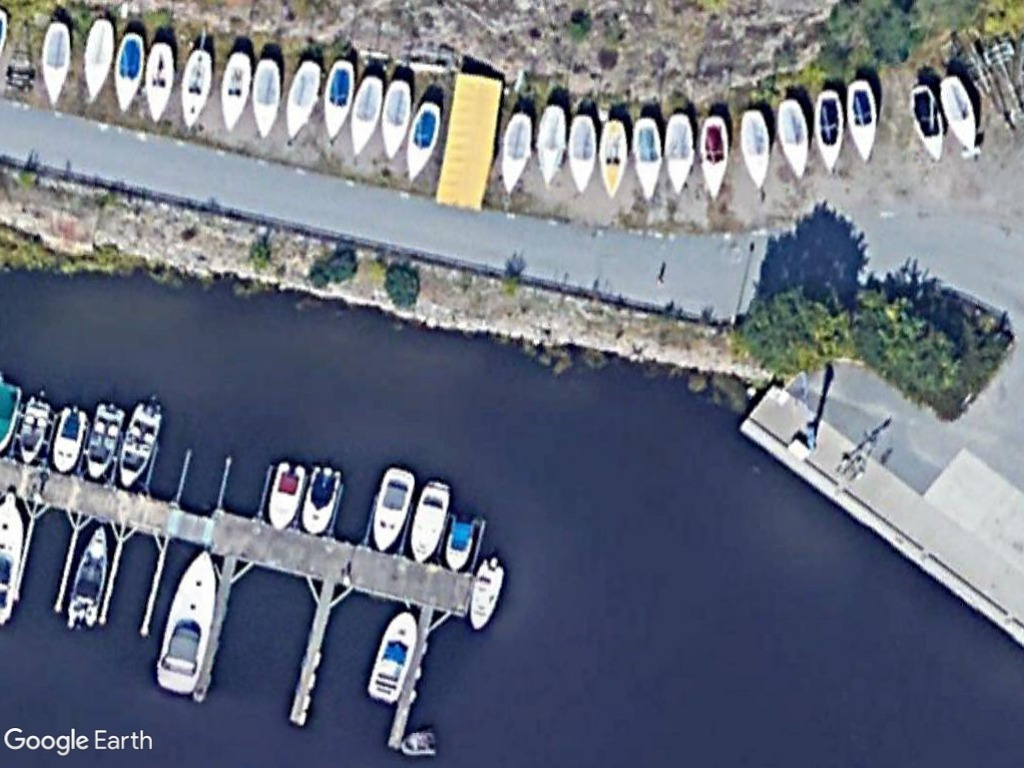boat: (147, 541, 225, 699), (60, 517, 126, 634), (365, 606, 427, 709), (362, 462, 423, 555), (935, 67, 988, 161), (117, 394, 167, 490), (902, 75, 950, 169), (403, 477, 456, 561), (837, 70, 882, 167), (295, 462, 348, 544), (656, 106, 701, 202), (401, 94, 446, 186), (37, 14, 81, 107), (626, 107, 666, 209), (731, 100, 775, 192), (464, 547, 509, 636), (566, 104, 606, 204), (84, 395, 127, 484), (533, 93, 569, 199), (140, 35, 179, 130), (380, 71, 418, 167), (263, 454, 308, 535), (774, 93, 814, 184), (596, 111, 633, 209), (811, 81, 847, 181), (76, 11, 116, 101), (246, 50, 283, 147), (345, 67, 384, 159), (497, 101, 534, 196), (281, 53, 321, 140), (176, 42, 215, 131), (697, 107, 732, 206), (319, 53, 355, 149), (108, 27, 147, 113), (217, 41, 252, 133), (47, 401, 90, 475), (441, 508, 483, 576)
